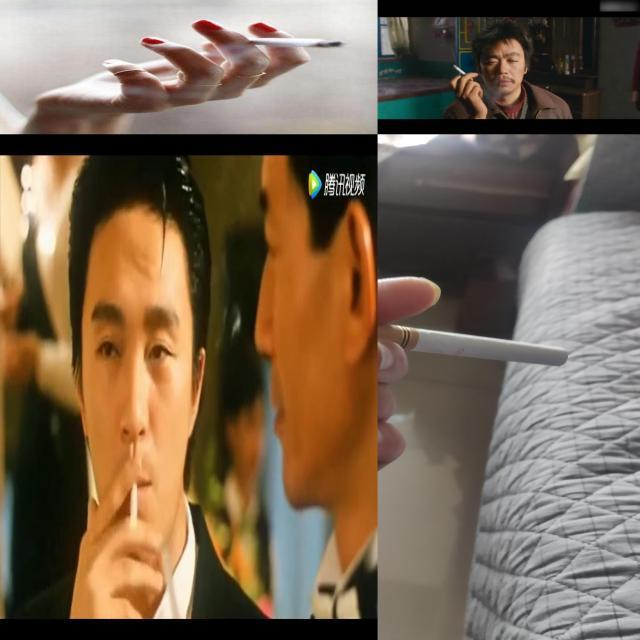smoking: (377, 316, 572, 366), (200, 30, 348, 51), (124, 464, 145, 545), (452, 64, 474, 81)
